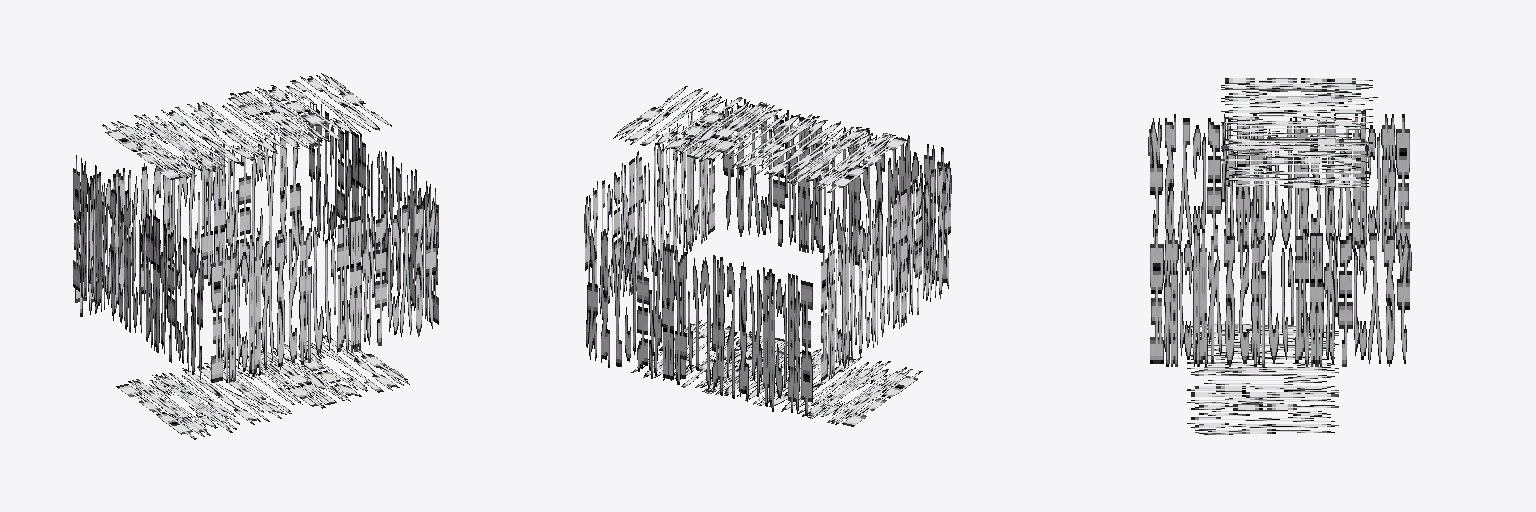
The picture shows the model from 3 angles: view 1: azimuth 30°, elevation 25°; view 2: azimuth 150°, elevation 25°; view 3: azimuth 270°, elevation 25°; orthographic projection.
Visible parts, largest first — view 1: TreasureLogo; view 2: TreasureLogo; view 3: TreasureLogo.
Part boxes in pixels (x1,y1,x2,y2): TreasureLogo: (73, 73, 438, 439); TreasureLogo: (584, 86, 951, 426); TreasureLogo: (1148, 78, 1411, 434).
Bounding box in the file's own units: 2 × 2 × 2.
1 materials, 1 textured.